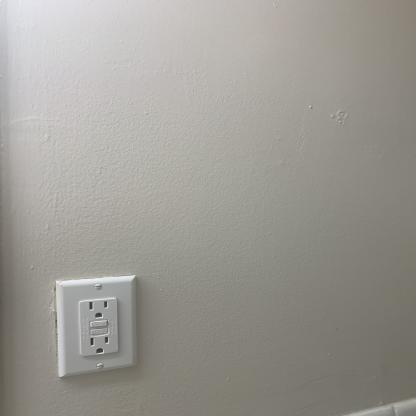OUTLET: (57, 277, 136, 373)
